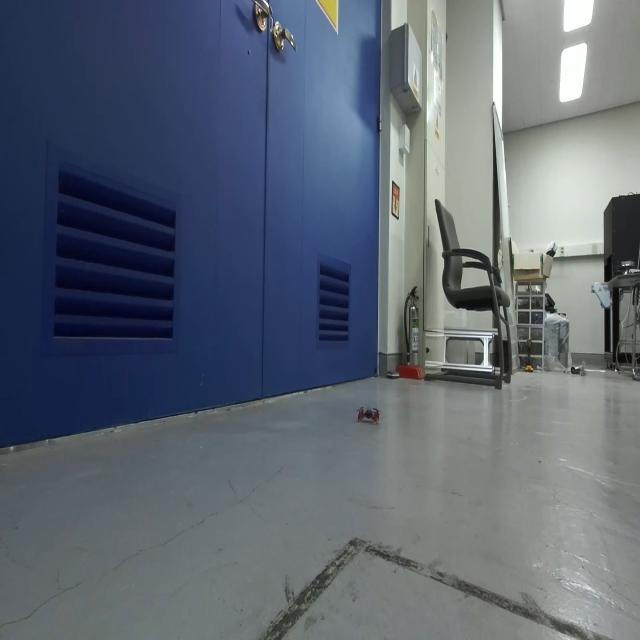crazyflie: (352, 401, 383, 429)
